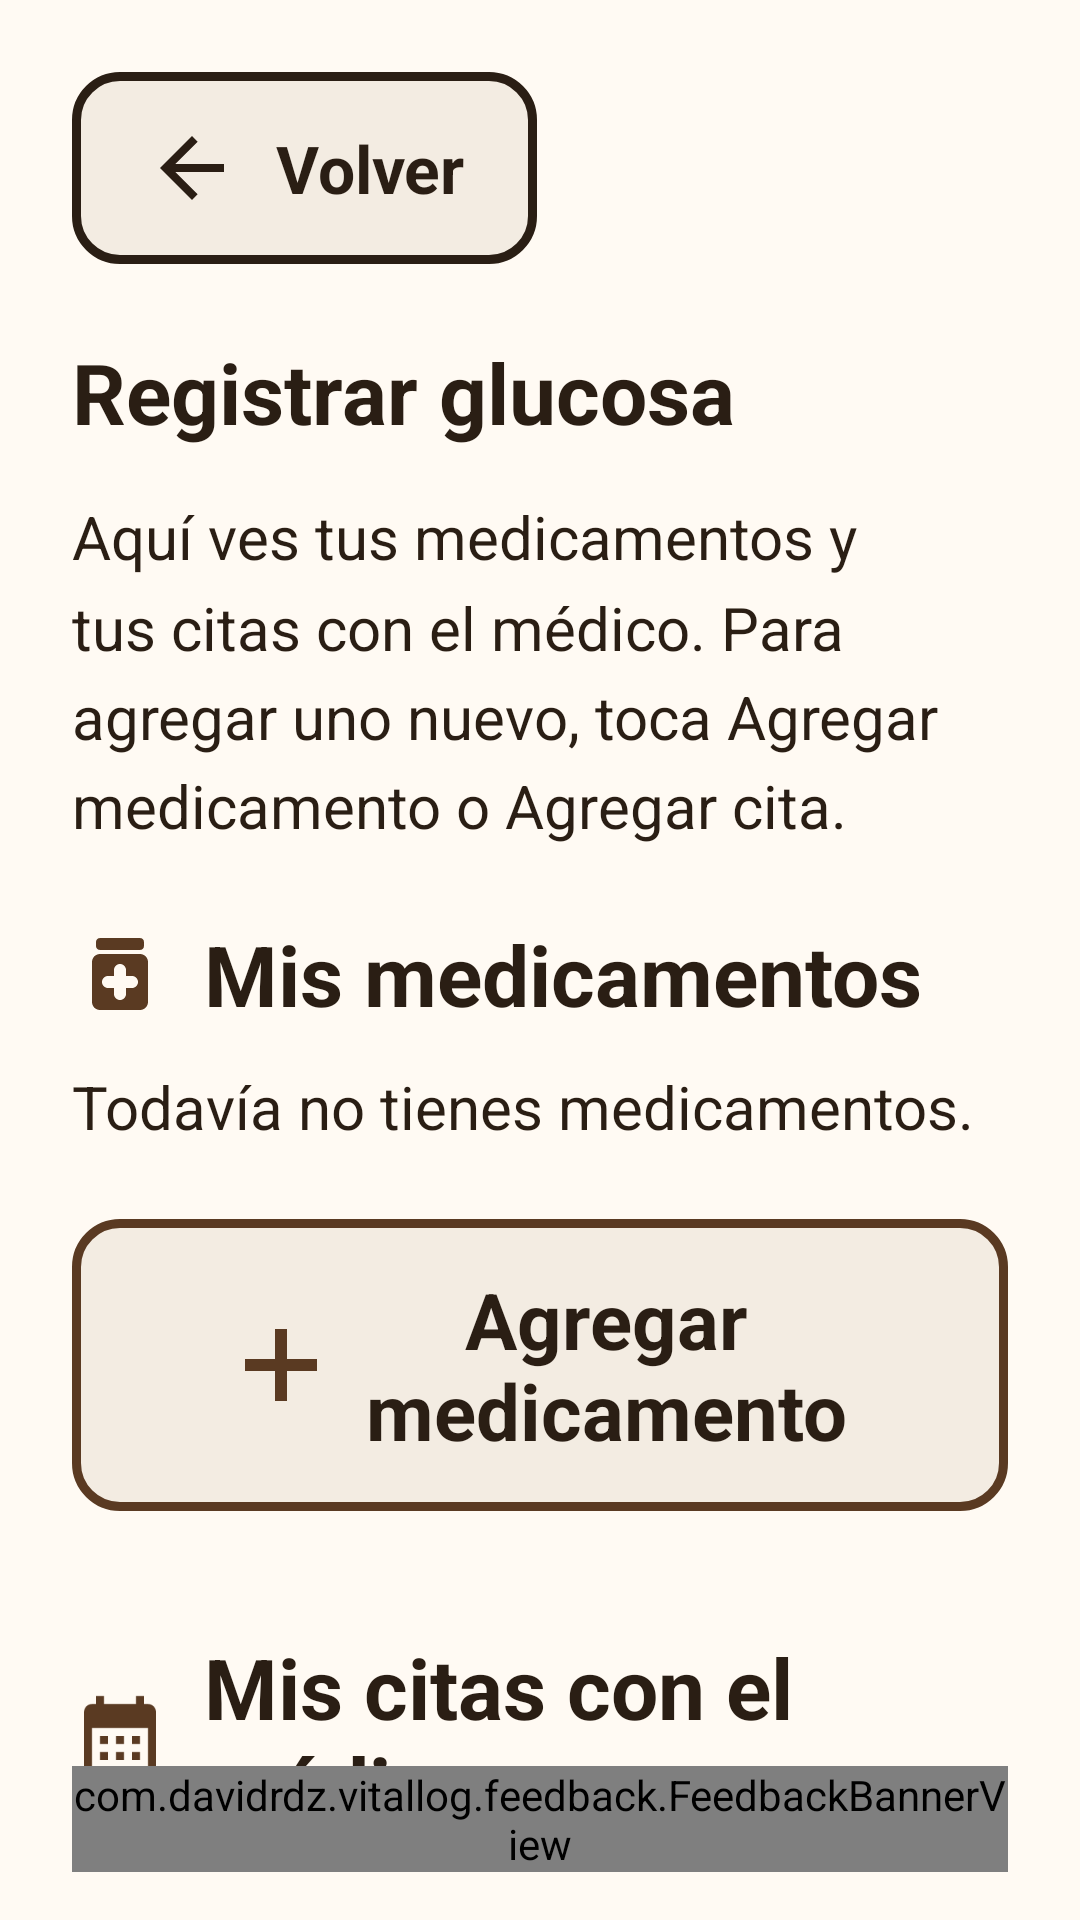

Icons on this 1080 × 1920 Android screen, each with the point to tap as (x,y):
medication: (120,974)
